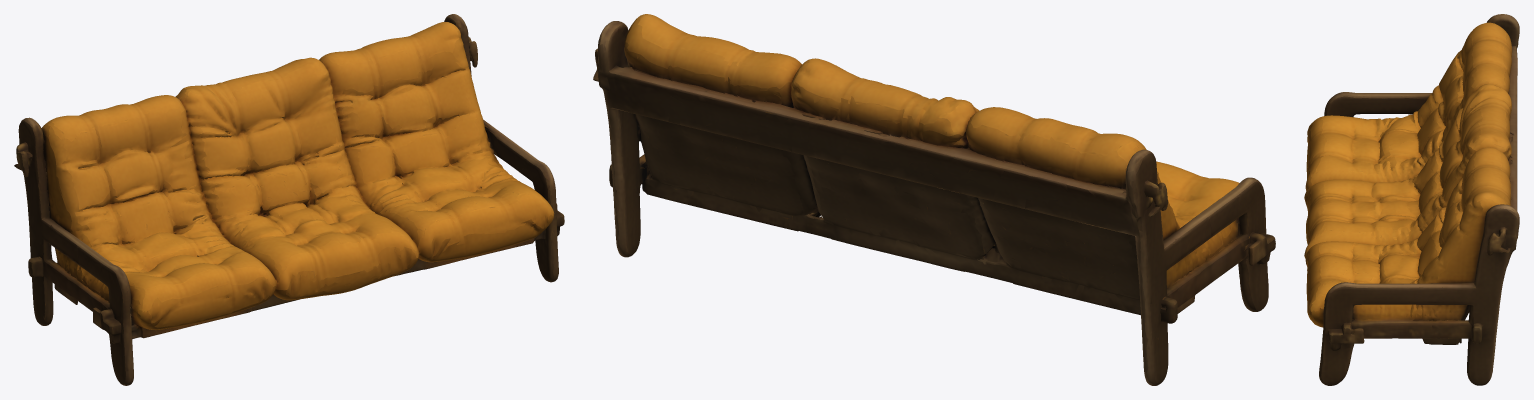
File: item_bc32d2c8.glb
3 renders of one model, left to right at view 1: azimuth 30°, elevation 25°; view 2: azimuth 150°, elevation 25°; view 3: azimuth 270°, elevation 25°, orthographic. The views are drawn at different scales.
Visible parts, largest first — view 1: world; view 2: world; view 3: world.
Part boxes in pixels (x1=…): world: x1=14, y1=14, x2=564, y2=385; world: x1=593, y1=14, x2=1275, y2=385; world: x1=1304, y1=14, x2=1519, y2=385.
Size of the model in its own units: 2.1 by 0.8832 by 0.9377.
1 material, 1 textured.
